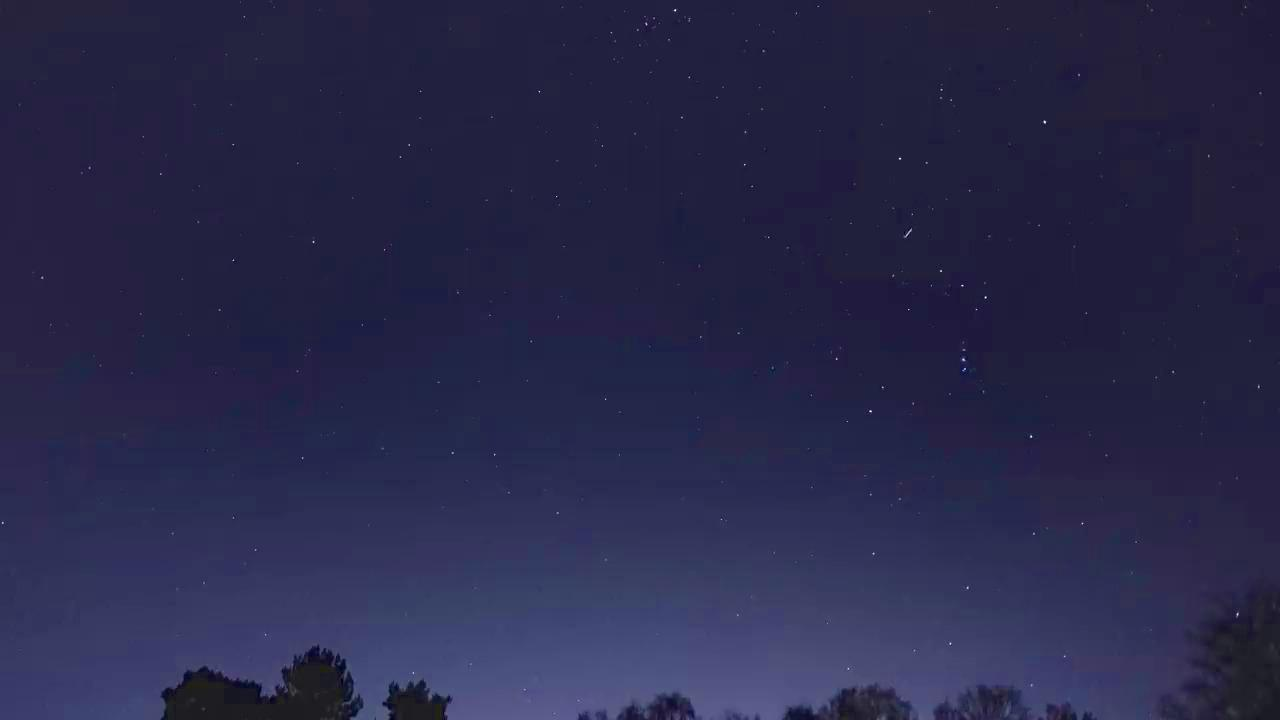meteorite: (888, 221, 931, 241)
